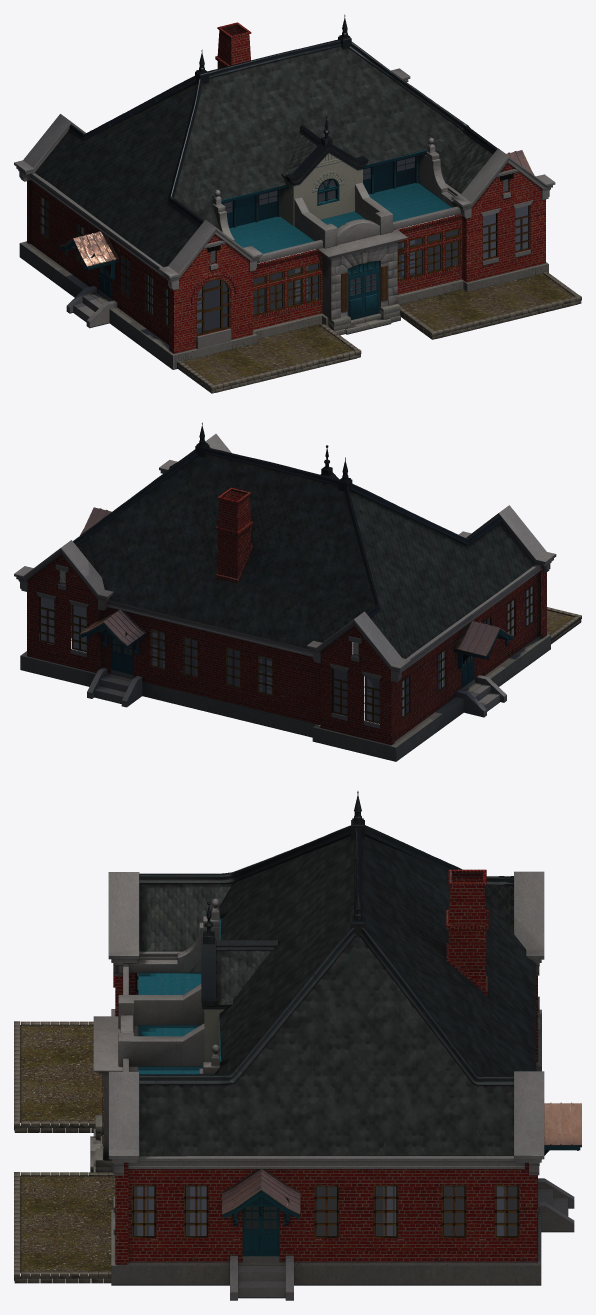
3 views of the same model, one above another, from view 1: azimuth 30°, elevation 25°; view 2: azimuth 150°, elevation 25°; view 3: azimuth 270°, elevation 25° (orthographic). The views are drawn at different scales.
Parts seen in each view (by area): view 1: roof, brick_wall, concrete_a, dirt, concrete_b, wooden_wall, concrete_c, glass4, black_metal, window_frame, block, wall (+3 smaller); view 2: roof, brick_wall, concrete_b, concrete_c, black_metal, glass4, window_frame, cooper_roof, painted_door, block; view 3: roof, brick_wall, concrete_b, dirt, black_metal, concrete_c, concrete_a, glass4, block, window_frame, cooper_roof, wooden_wall (+2 smaller).
Part boxes in pixels (x1,y1,x2,y2): roof: [35, 46, 492, 267]; brick_wall: [27, 22, 545, 353]; concrete_a: [212, 137, 460, 319]; dirt: [182, 273, 573, 384]; concrete_b: [14, 49, 555, 349]; wooden_wall: [221, 150, 451, 253]; concrete_c: [19, 214, 548, 369]; glass4: [41, 157, 528, 333]; black_metal: [68, 14, 497, 225]; window_frame: [40, 196, 529, 335]; block: [177, 271, 581, 393]; wall: [280, 153, 362, 226]; roof: [77, 454, 535, 658]; brick_wall: [27, 487, 546, 745]; concrete_b: [14, 434, 556, 728]; concrete_c: [20, 625, 550, 761]; black_metal: [73, 422, 502, 617]; glass4: [41, 580, 532, 722]; window_frame: [39, 579, 533, 723]; cooper_roof: [79, 507, 513, 656]; painted_door: [80, 623, 513, 688]; block: [547, 607, 581, 644]; roof: [139, 835, 536, 1156]; brick_wall: [113, 869, 537, 1264]; concrete_b: [108, 871, 574, 1300]; dirt: [20, 1025, 115, 1273]; black_metal: [139, 791, 513, 1085]; concrete_c: [90, 1009, 541, 1285]; concrete_a: [93, 898, 219, 1160]; glass4: [134, 973, 517, 1235]; block: [14, 1021, 114, 1283]; window_frame: [132, 973, 519, 1238]; cooper_roof: [221, 1102, 581, 1214]; wooden_wall: [138, 917, 221, 1074].
Size of the model in its own units: 5.33 by 2.72 by 4.38.
16 materials, 16 textured.
